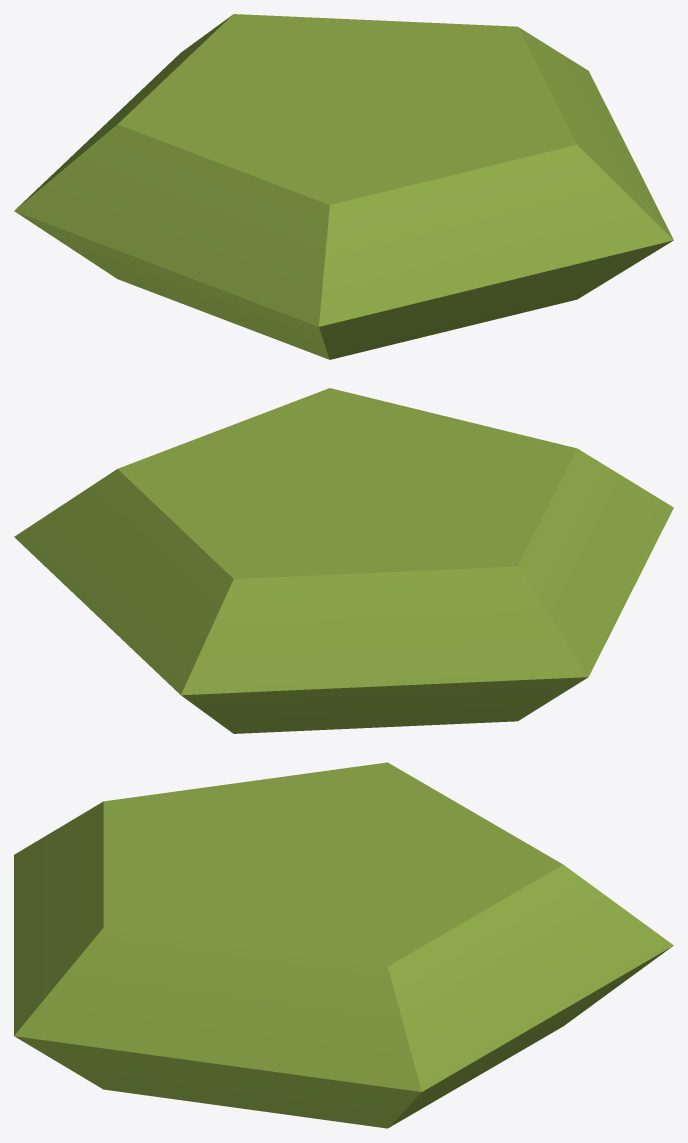
Rendered from Diamond_03.fbx.
3 renders of one model, top to bottom at view 1: azimuth 30°, elevation 25°; view 2: azimuth 150°, elevation 25°; view 3: azimuth 270°, elevation 25°, orthographic. The views are drawn at different scales.
Visible parts, largest first — view 1: Diamond_03_LOD0; view 2: Diamond_03_LOD0; view 3: Diamond_03_LOD0.
Boxes of the visible parts, x1,y1,x2,y2 form: Diamond_03_LOD0: (14, 14, 673, 359); Diamond_03_LOD0: (14, 388, 673, 733); Diamond_03_LOD0: (14, 762, 673, 1128).
Size of what is drawn, in the model's own units: 0.1025 by 0.0264 by 0.0975.
